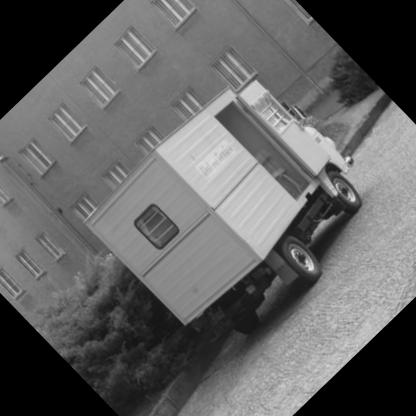truck: (66, 35, 414, 382)
